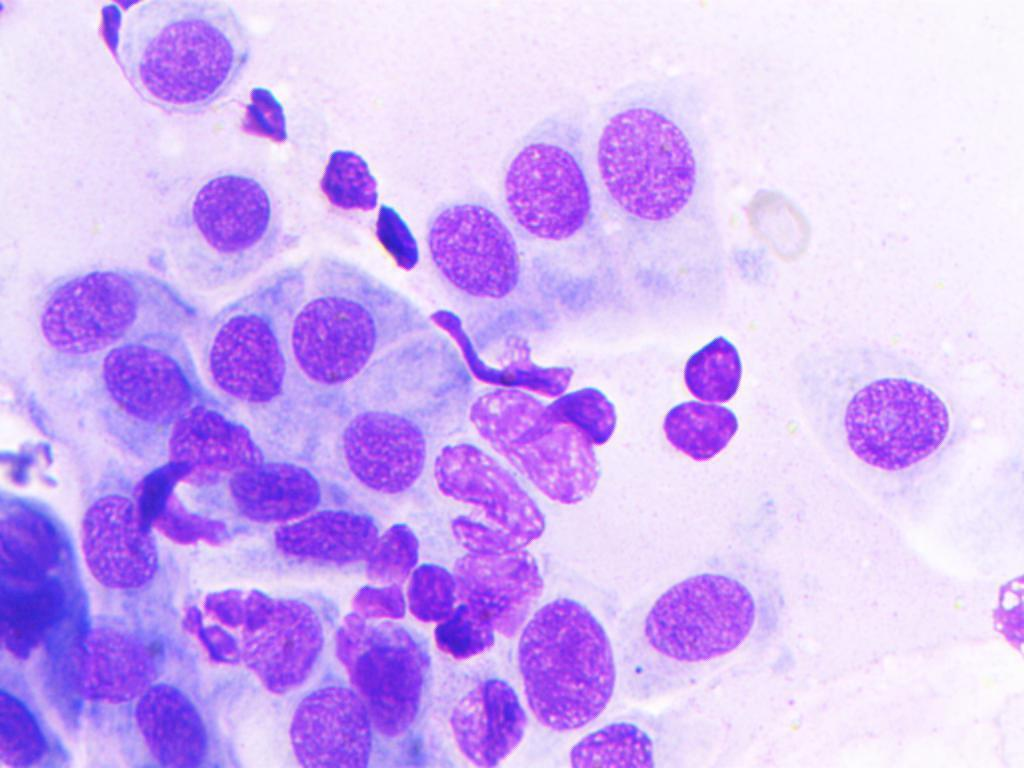artifact: (423, 306, 574, 398), (0, 488, 72, 672), (234, 79, 303, 149), (564, 370, 630, 442), (372, 201, 421, 273)
epithelial: (583, 83, 732, 313), (799, 333, 961, 498), (631, 517, 781, 691), (455, 360, 607, 505), (142, 156, 307, 268), (109, 0, 259, 116), (425, 434, 569, 542), (521, 597, 624, 727), (506, 119, 597, 239), (25, 263, 143, 352), (234, 590, 332, 692), (449, 532, 549, 630), (291, 293, 391, 390), (202, 289, 284, 405), (330, 405, 438, 493), (71, 487, 155, 597), (424, 202, 518, 299), (271, 497, 382, 574), (91, 344, 191, 425), (69, 618, 162, 704), (653, 326, 757, 401), (648, 403, 752, 478), (166, 407, 267, 484), (434, 683, 522, 767), (347, 636, 422, 729), (290, 687, 375, 767), (223, 460, 329, 522), (134, 684, 200, 767), (307, 144, 389, 209), (567, 715, 667, 768), (399, 554, 449, 629)
neutrophil: (176, 567, 274, 667)
